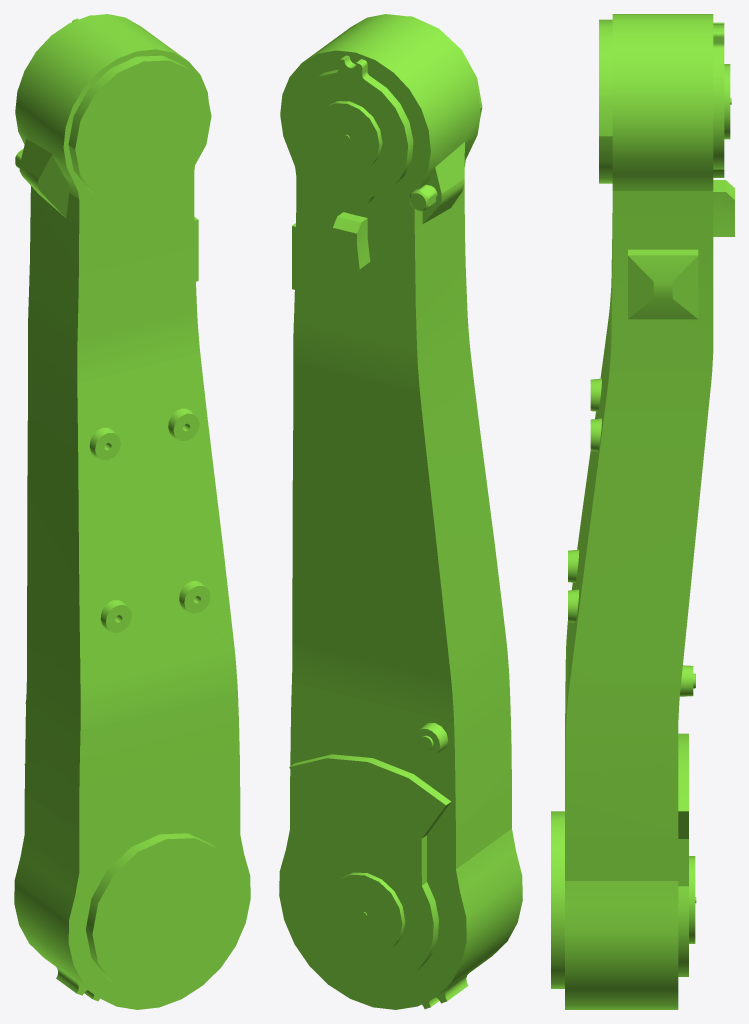
3 views of the same model, side by side, from view 1: azimuth 30°, elevation 25°; view 2: azimuth 150°, elevation 25°; view 3: azimuth 270°, elevation 25° (orthographic). The views are drawn at different scales.
Parts seen in each view (by area): view 1: PartLink2; view 2: PartLink2; view 3: PartLink2.
Boxes of the visible parts, bbox=[...] form: PartLink2: bbox=[14, 14, 250, 1009]; PartLink2: bbox=[279, 14, 522, 1009]; PartLink2: bbox=[551, 14, 734, 1009].
Size of the model in its own units: 0.174 by 0.146 by 0.8583.
